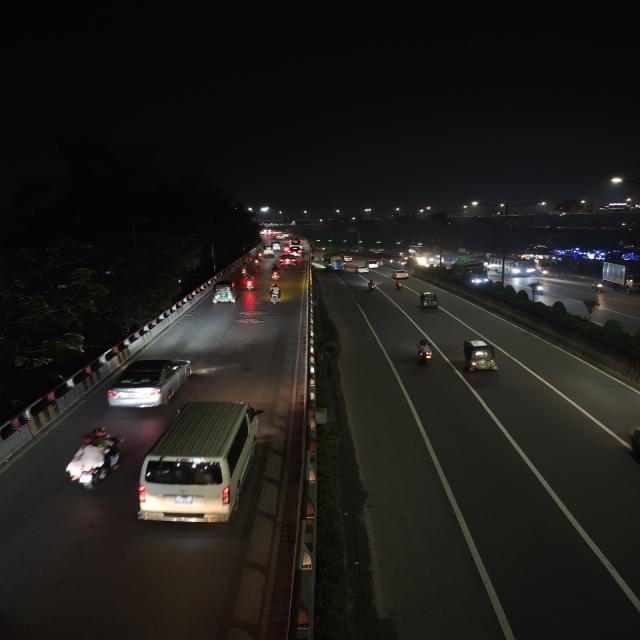bus: (490, 257, 536, 277), (410, 249, 437, 267), (325, 256, 346, 270)
car: (134, 398, 266, 528), (106, 354, 198, 412), (278, 254, 298, 268), (392, 268, 411, 280), (366, 260, 382, 270), (355, 266, 369, 274)
cng: (460, 338, 500, 376), (211, 279, 238, 305), (418, 291, 441, 311)
motorcycle: (61, 427, 123, 492), (411, 338, 437, 369), (267, 283, 283, 305), (529, 280, 547, 299), (242, 274, 257, 292), (366, 278, 379, 294), (590, 280, 604, 294), (270, 266, 283, 280), (392, 279, 406, 291)
truck: (602, 258, 639, 292), (451, 262, 488, 286)
